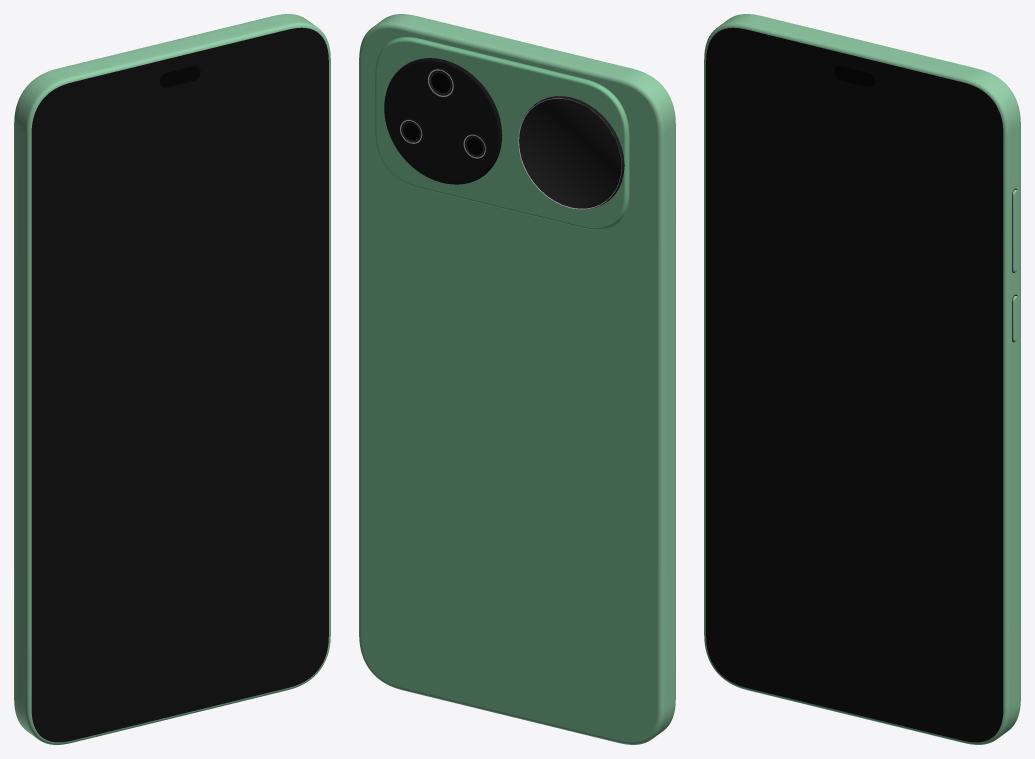
The model's file is huawei-nova-15-pro.glb.
3 renders of one model, left to right at view 1: azimuth 30°, elevation 25°; view 2: azimuth 150°, elevation 25°; view 3: azimuth 330°, elevation 25°, orthographic.
Parts seen in each view (by area): view 1: body, punch; view 2: body, camera; view 3: body, buttons, punch.
Part boxes in pixels (x1,y1,x2,y2): body: (14,14,330,744); punch: (159,66,200,87); body: (359,14,675,744); camera: (375,37,629,229); body: (704,14,1020,744); buttons: (1012,188,1018,342); punch: (834,66,875,87).
Size of the model in its own units: 78.43 by 163 by 9.08.
